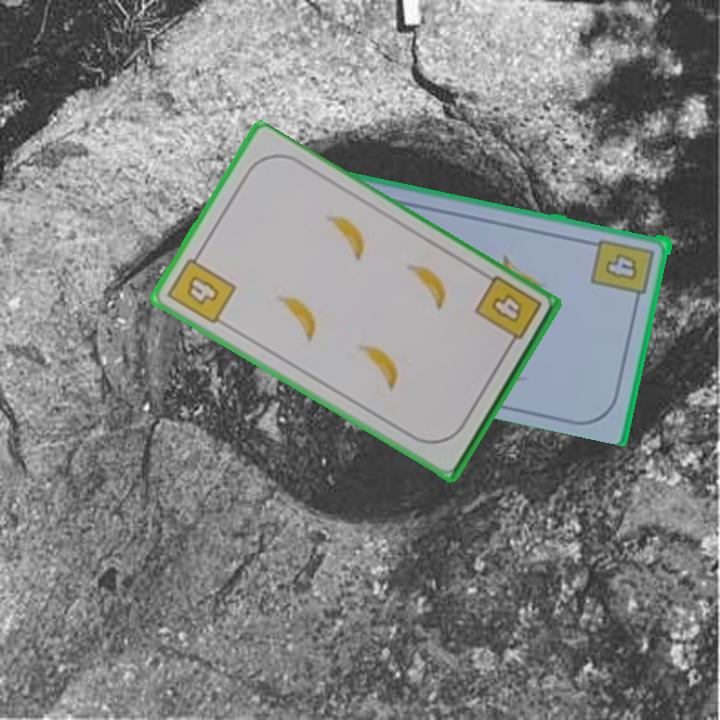4b: (163, 247, 239, 328), (471, 272, 545, 354), (589, 234, 658, 305)
